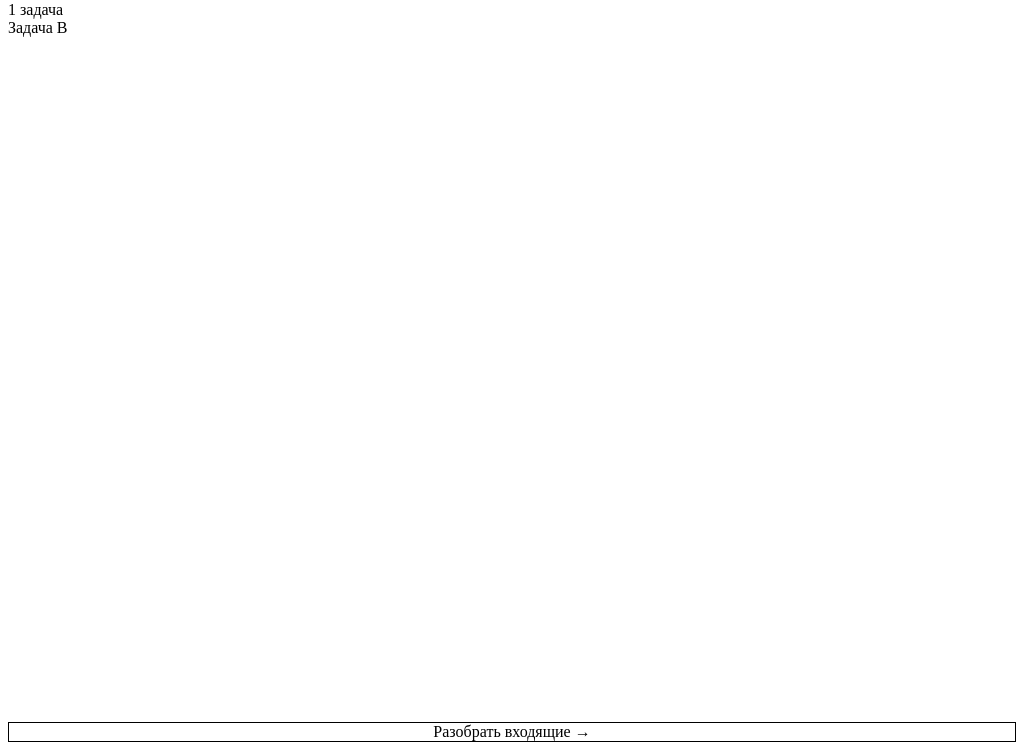
Inbox — действия карточки › «Проект» со списком активных проектов назначает projectId + processed
(page scrolled)
Expected: the text "Задача В" is shown, [8,19,68,37]
Step 1. Click the button "Разобрать входящие →" → (512, 732), box [8,722,1016,742]
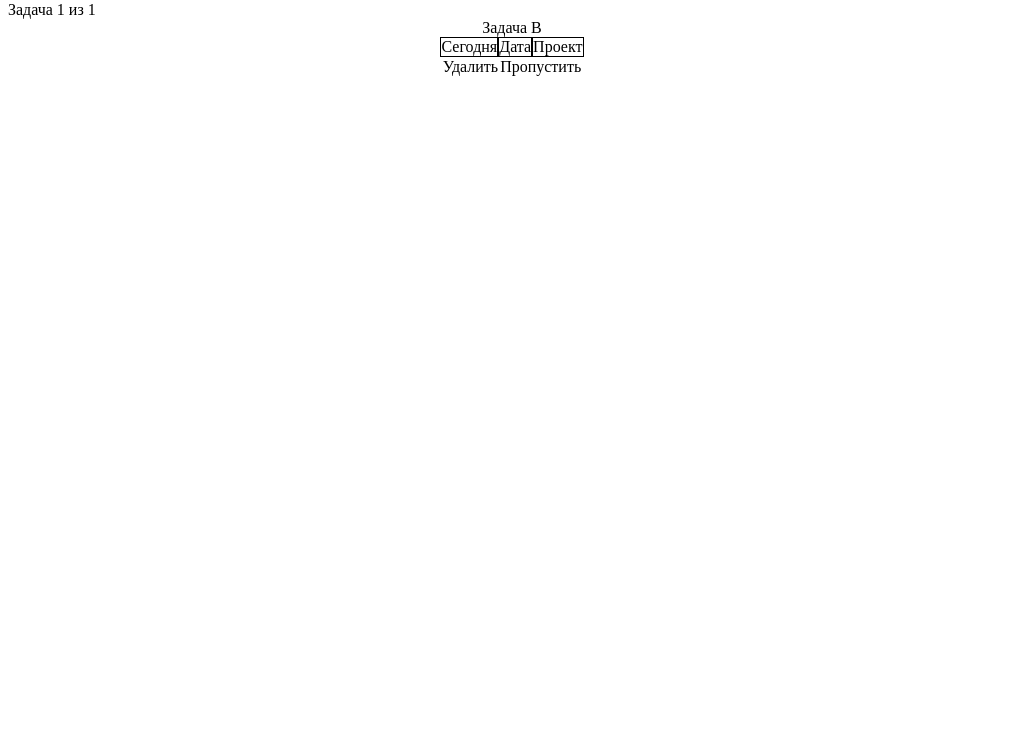
Step 2. Click the button "Проект" → (558, 47), box [532,37,584,57]
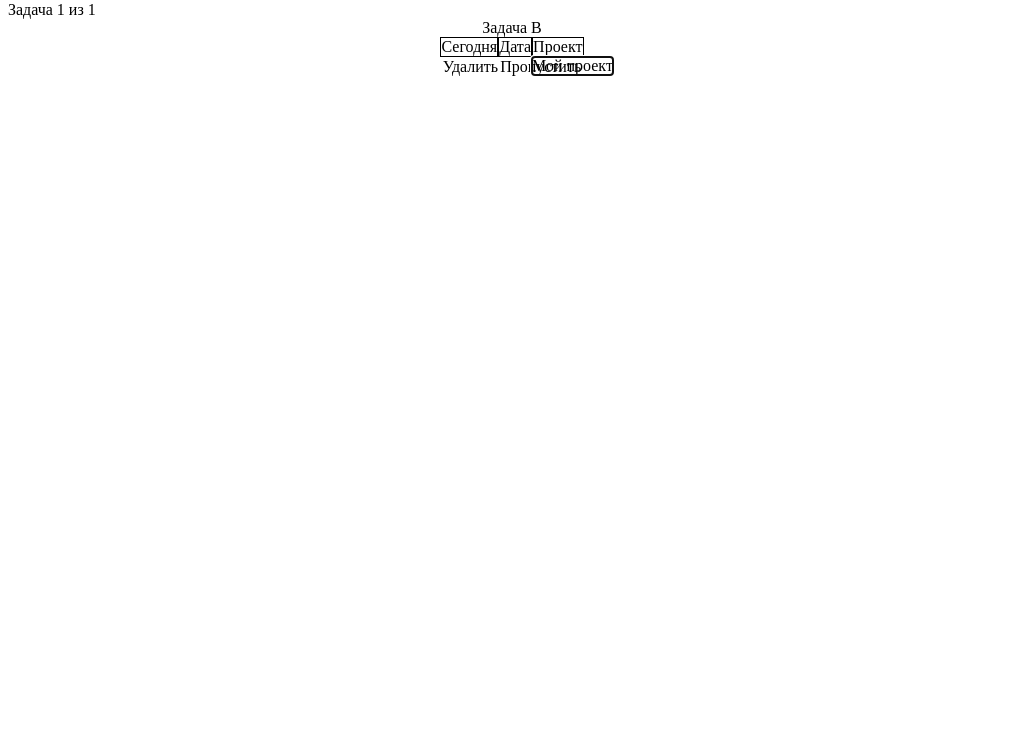
Step 3. Click the menu item "Мой проект" → (572, 66), box [532,57,613,75]
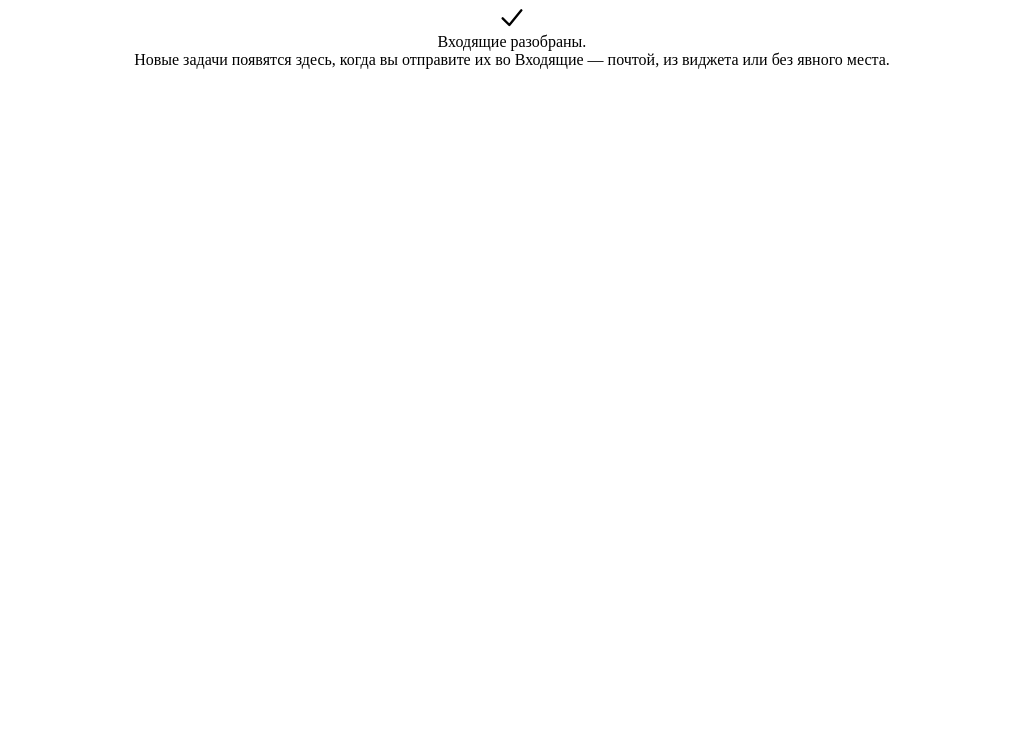
Result: the text "Входящие разобраны." is shown at [438,33,586,51]
